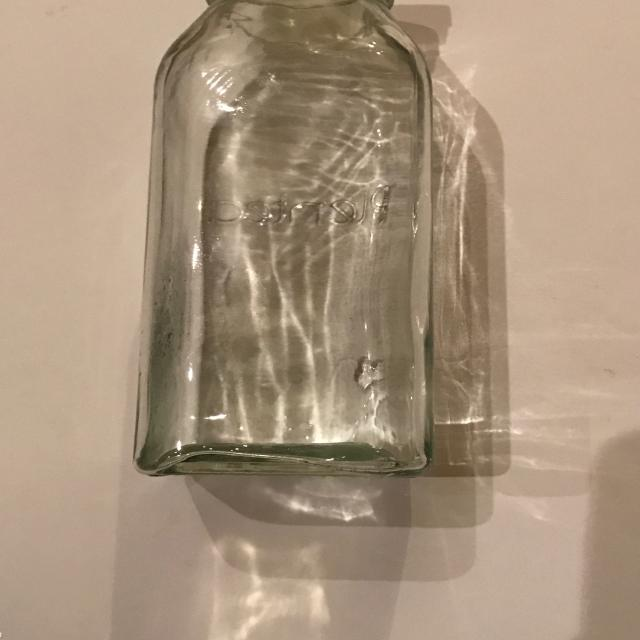glass: (129, 0, 437, 483)
